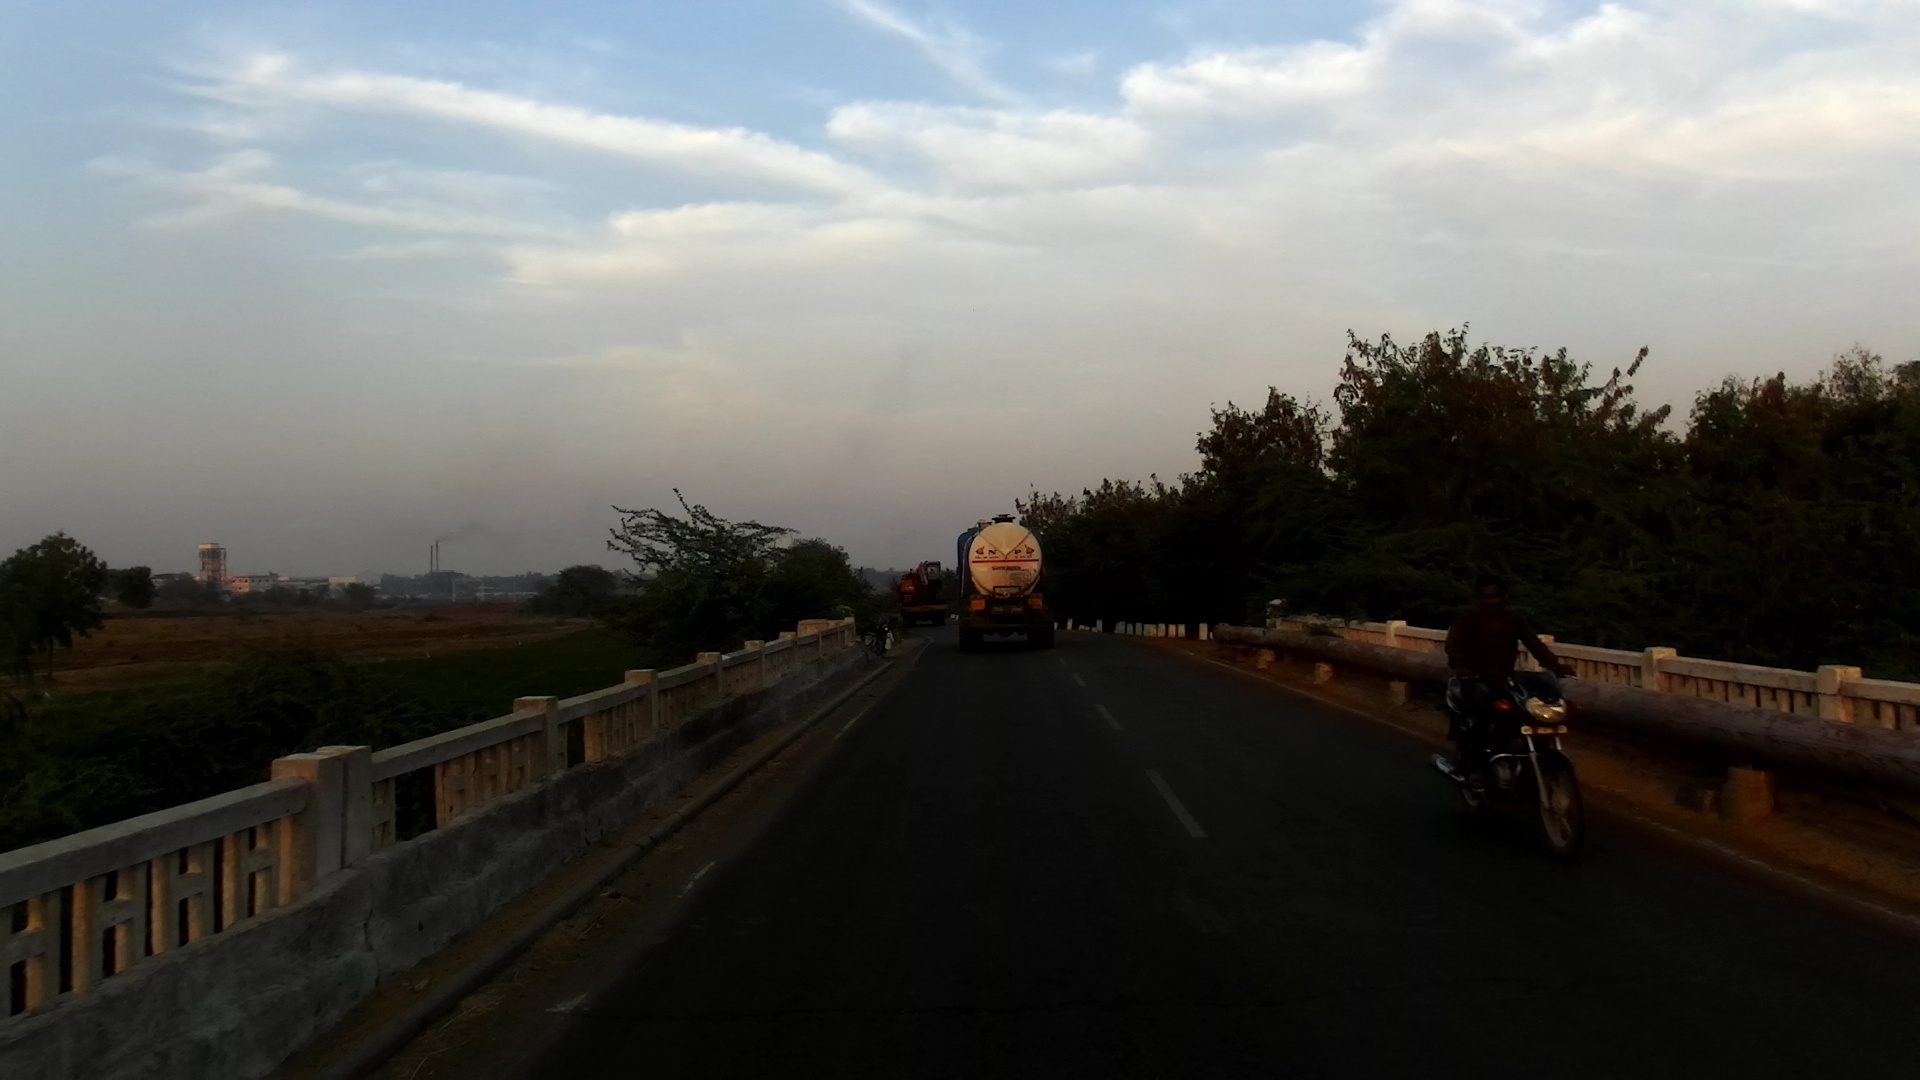motorcycle: (1431, 656, 1593, 865), (868, 619, 895, 663)
rider: (1436, 578, 1570, 822)
truck: (954, 516, 1059, 654), (900, 560, 950, 629)
